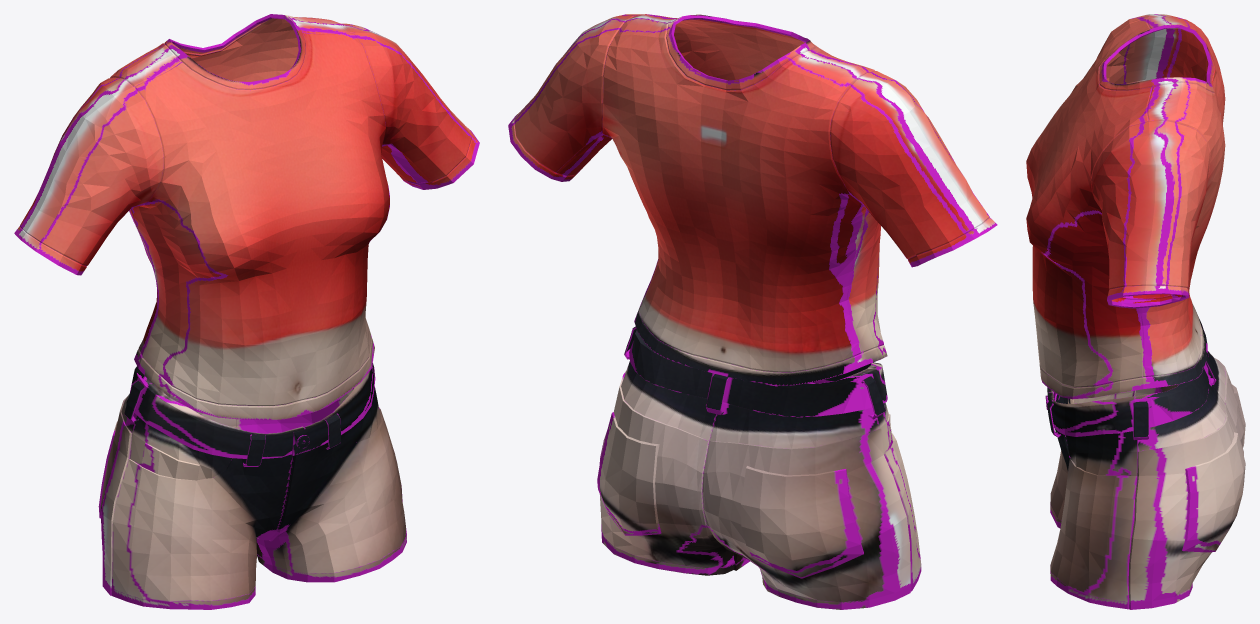
3 views of the same model, side by side, from view 1: azimuth 30°, elevation 25°; view 2: azimuth 150°, elevation 25°; view 3: azimuth 270°, elevation 25° (orthographic). The views are drawn at different scales.
Bounding box in the file's own units: 0.9296 × 1.04 × 0.4093.
1 material, 1 textured.
